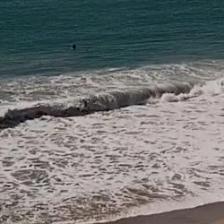surfer: (72, 44, 76, 49)
